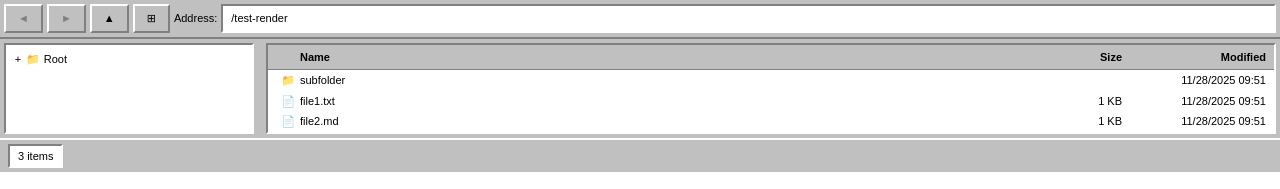
Test: Explorer - File List Rendering › should toggle between list and icon view modes
// Click to switch to icon view
Step 1. Click the button named "Switch to icon view" → click(151, 18), box [133,4,170,32]
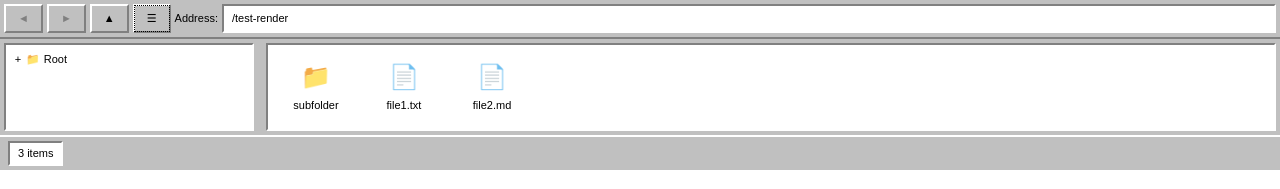
Expected: the button named "Switch to list view" is shown, [133,4,171,32]
